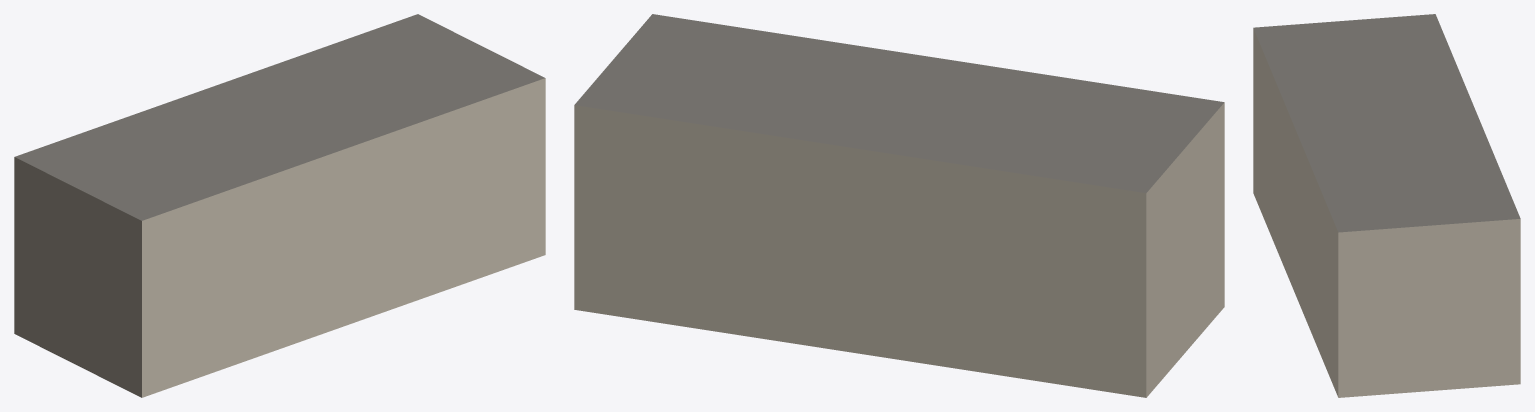
The picture shows the model from 3 angles, left to right: view 1: azimuth 30°, elevation 25°; view 2: azimuth 150°, elevation 25°; view 3: azimuth 270°, elevation 25°; orthographic projection. The views are drawn at different scales.
Parts seen in each view (by area): view 1: HP-w859488787; view 2: HP-w859488787; view 3: HP-w859488787.
Part boxes in pixels (x1,y1,x2,y2): HP-w859488787: (14,14,545,397); HP-w859488787: (574,14,1224,397); HP-w859488787: (1253,14,1520,397).
Bounding box in the file's own units: 50.98 × 18 × 26.37.
